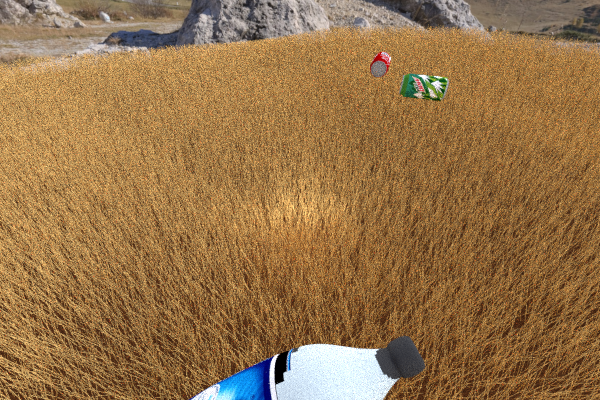bottle: (39, 335, 425, 400)
can: (398, 73, 448, 101), (369, 51, 390, 77)
